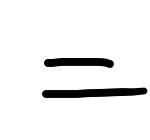eqv: (39, 55, 149, 99)
